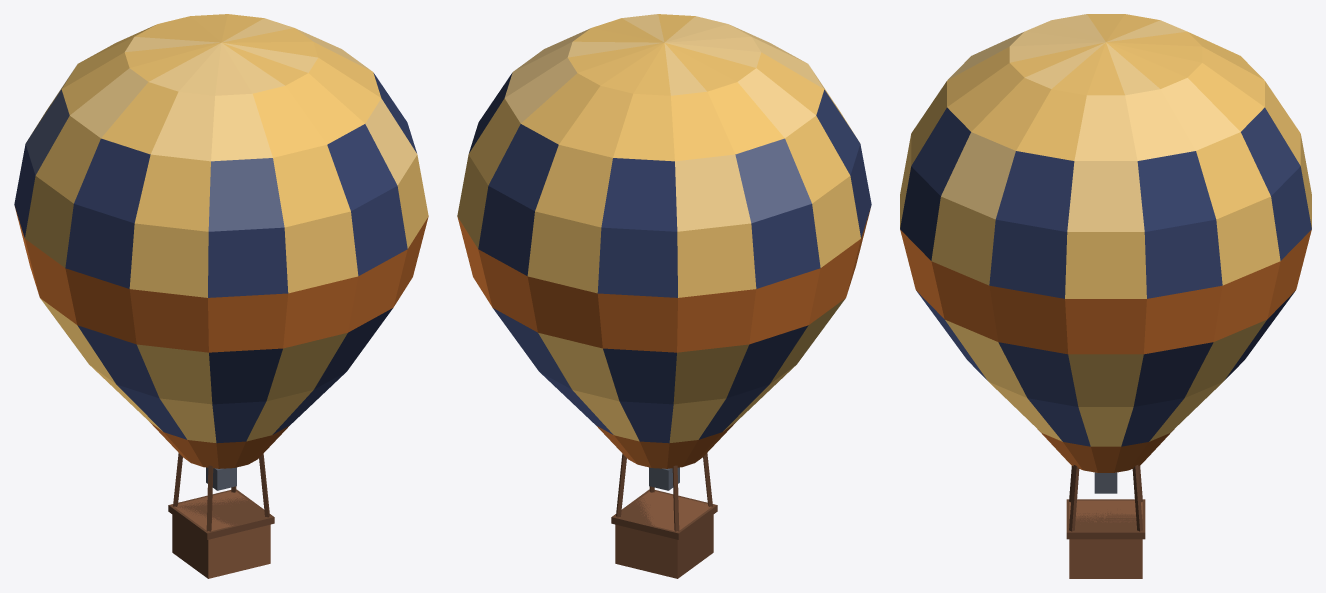
File: SM_Balloon_C.fbx
3 views of the same model, side by side, from view 1: azimuth 30°, elevation 25°; view 2: azimuth 150°, elevation 25°; view 3: azimuth 270°, elevation 25° (orthographic).
Parts seen in each view (by area): view 1: SM_Balloon_C; view 2: SM_Balloon_C; view 3: SM_Balloon_C.
Boxes of the visible parts, bbox=[...] form: SM_Balloon_C: bbox=[14, 14, 428, 578]; SM_Balloon_C: bbox=[457, 14, 871, 578]; SM_Balloon_C: bbox=[900, 14, 1311, 578].
Size of the model in its own units: 9.02 by 12.6 by 9.02.
